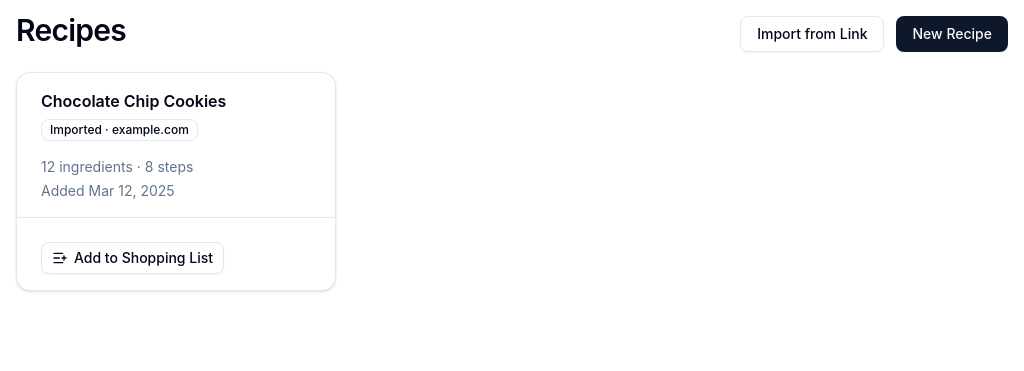
RecipesPage › renders an error banner when toggling the shopping list membership fails
Step 1. Click the button "Add to Shopping List" → x=132, y=258, box left=41, top=242, right=224, bottom=274
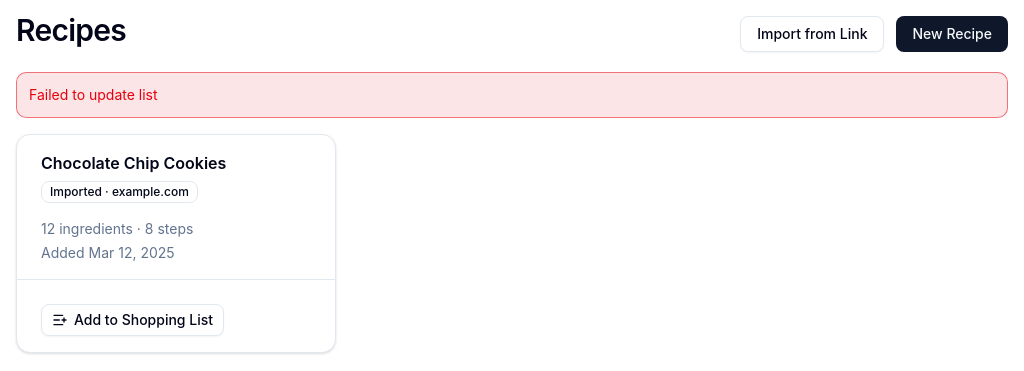
Result: the message reads "Failed to update list" at left=29, top=86, right=158, bottom=103
